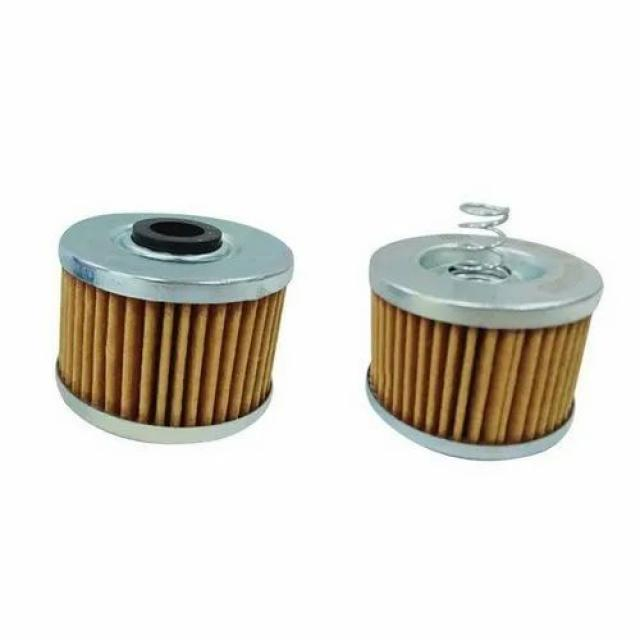oil_filter: (351, 195, 602, 465), (50, 200, 307, 448)
